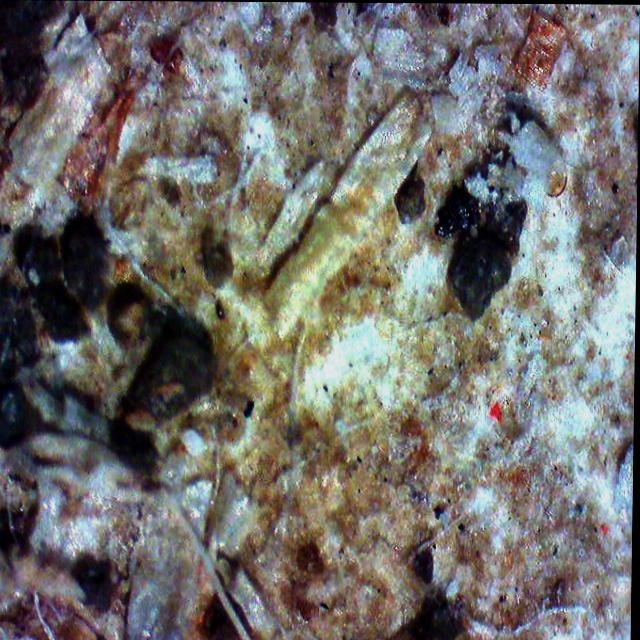microplastic: (488, 400, 505, 423)
